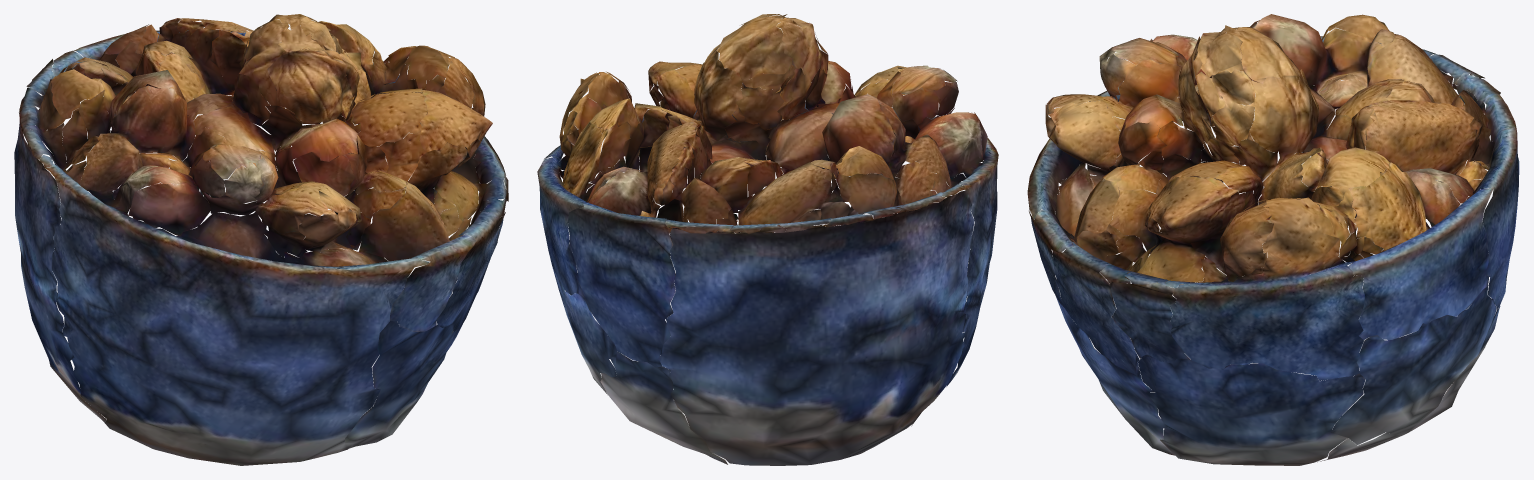
Rendered from kuruyemis.glb.
3 renders of one model, left to right at view 1: azimuth 30°, elevation 25°; view 2: azimuth 150°, elevation 25°; view 3: azimuth 270°, elevation 25°, orthographic. The views are drawn at different scales.
Parts seen in each view (by area): view 1: kuruyemis; view 2: kuruyemis; view 3: kuruyemis.
Part boxes in pixels (x1,y1,x2,y2): kuruyemis: (14, 14, 508, 465); kuruyemis: (537, 14, 998, 465); kuruyemis: (1027, 14, 1519, 465).
Bounding box in the file's own units: 0.1078 × 0.0969 × 0.11.
1 material, 1 textured.
